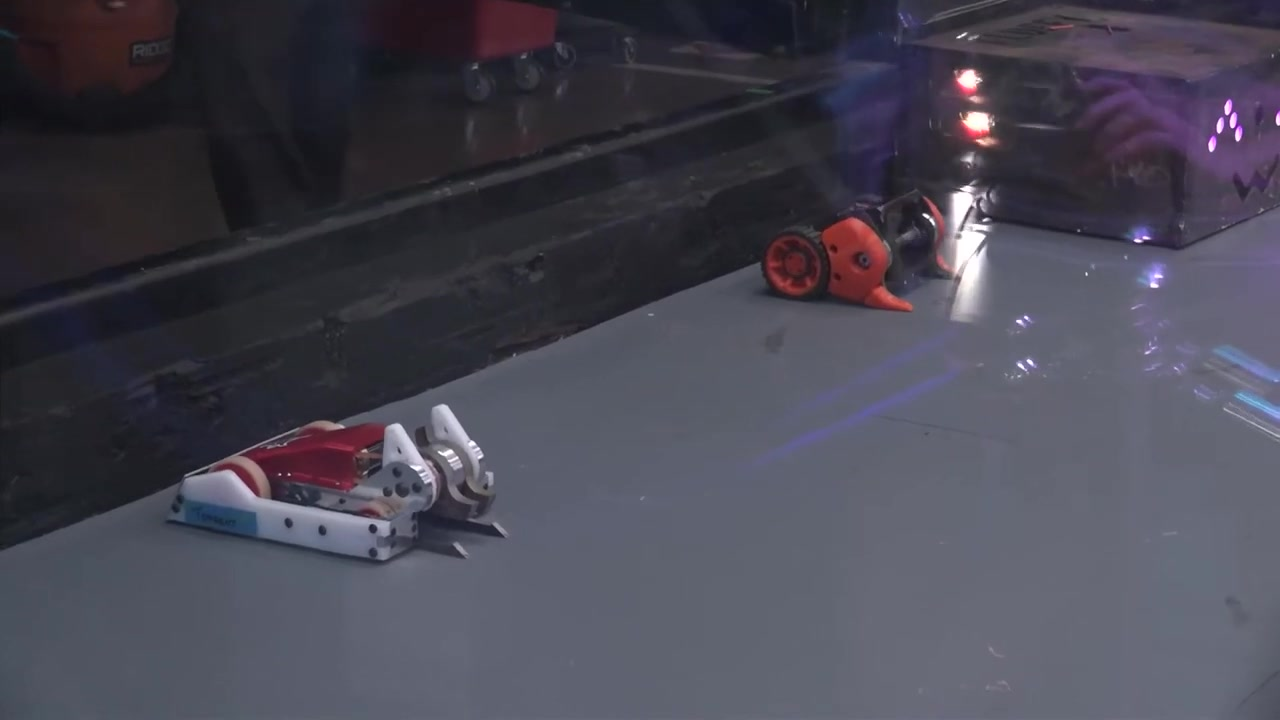combatbot: (168, 405, 507, 564), (758, 185, 960, 319)
housebot: (888, 0, 1280, 251)
